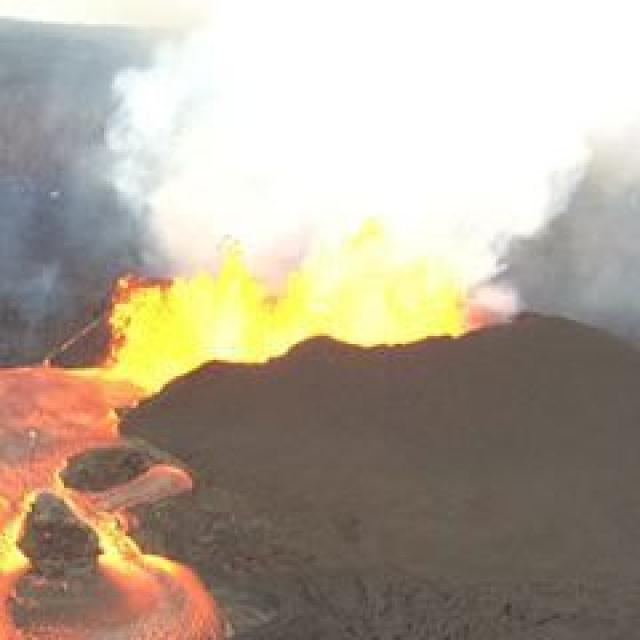Fire: (93, 231, 435, 397)
Smoke: (152, 10, 602, 238)
